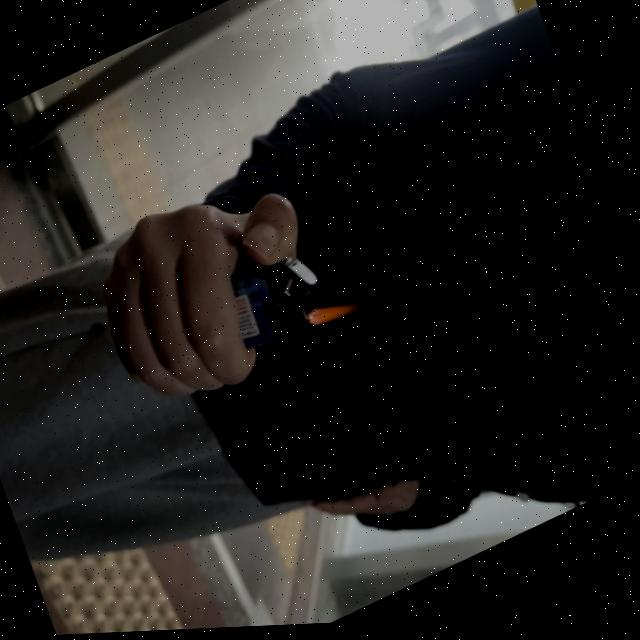Fire: (308, 285, 372, 338)
